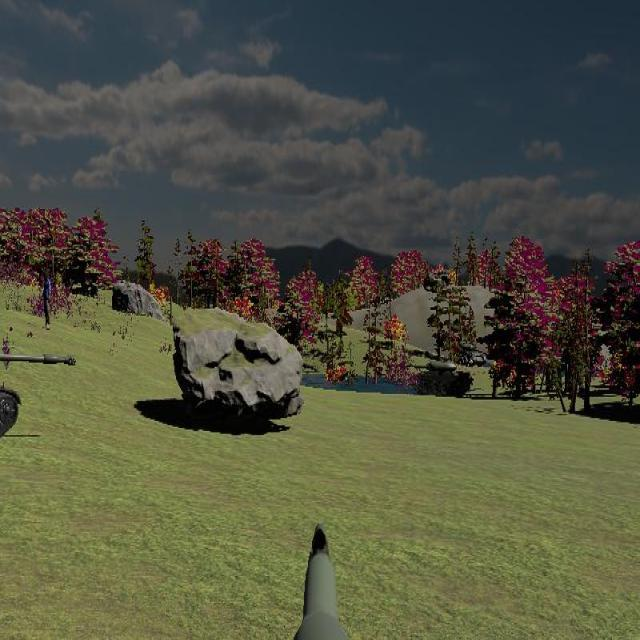Tank: (0, 331, 76, 448), (405, 357, 473, 398)
